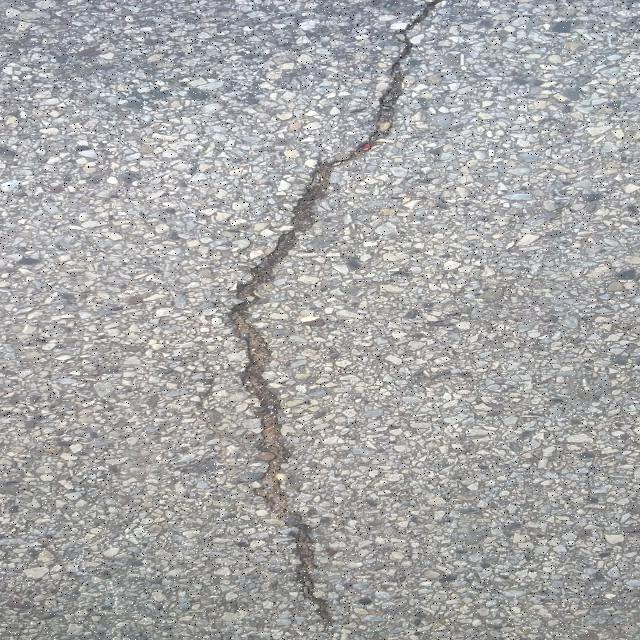Crack: (223, 0, 456, 627)
